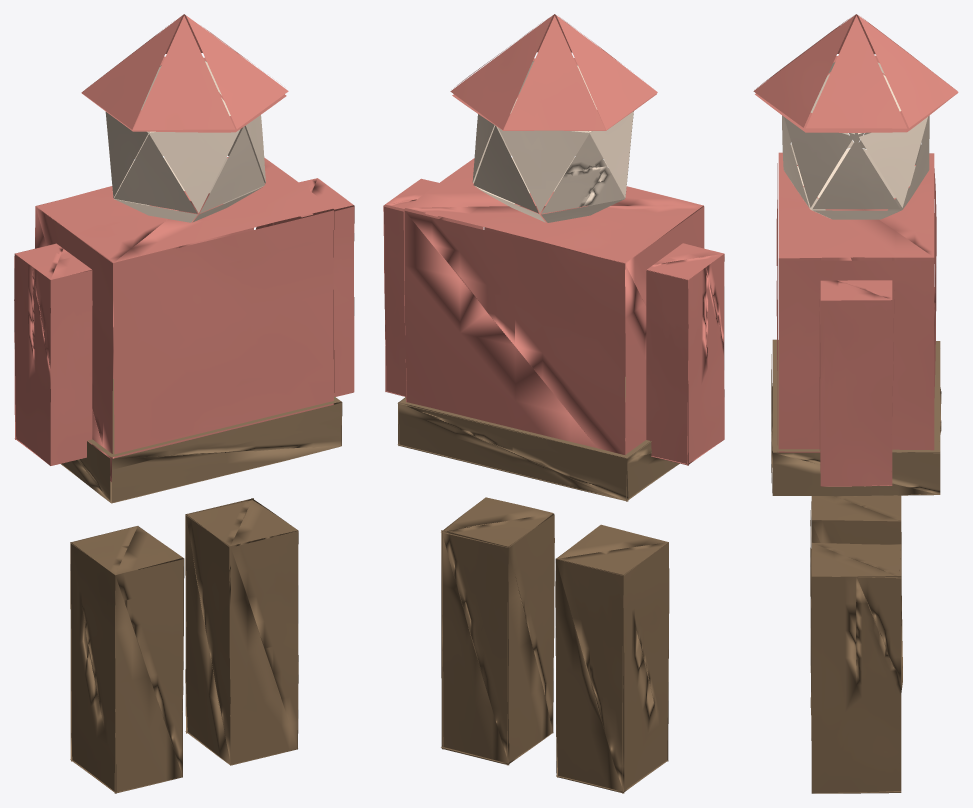
The model's file is settler.glb.
3 renders of one model, left to right at view 1: azimuth 30°, elevation 25°; view 2: azimuth 150°, elevation 25°; view 3: azimuth 270°, elevation 25°, orthographic.
Parts seen in each view (by area): view 1: SettlerLegL; view 2: SettlerLegL; view 3: SettlerLegL.
Boxes of the visible parts, box(x1,y1,x2,y2) form: SettlerLegL: box(14, 14, 354, 793); SettlerLegL: box(383, 14, 724, 793); SettlerLegL: box(753, 14, 958, 793).
Bounding box in the file's own units: 0.5834 × 1.36 × 0.3427.
